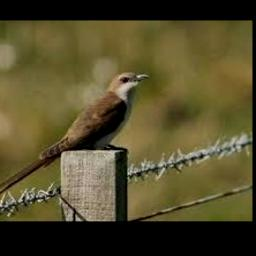Cuckoo: (0, 72, 150, 198)
